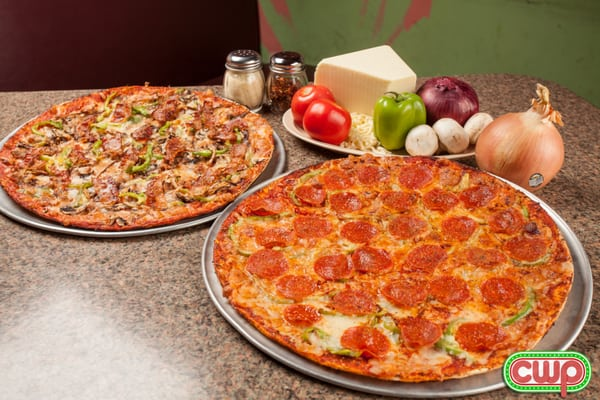burger: (223, 49, 265, 111)
curry: (0, 48, 600, 390)
sandwich: (213, 152, 578, 382), (0, 84, 273, 230)
